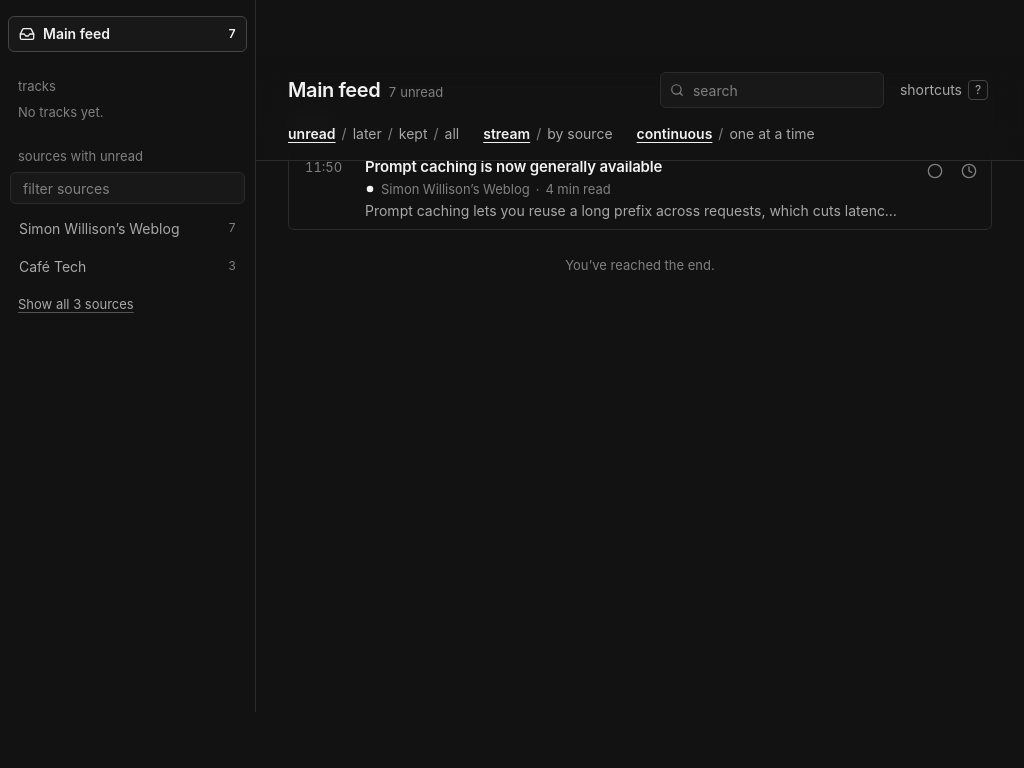
ReaderNavRail › source filter › says when no source matches
The image size is (1024, 768).
Expected: the link "Simon Willison’s Weblog 7" is shown, [8, 210, 247, 246]
Type "zzzz" into the field labelled "filter sources" at (128, 188), box [10, 172, 245, 204]
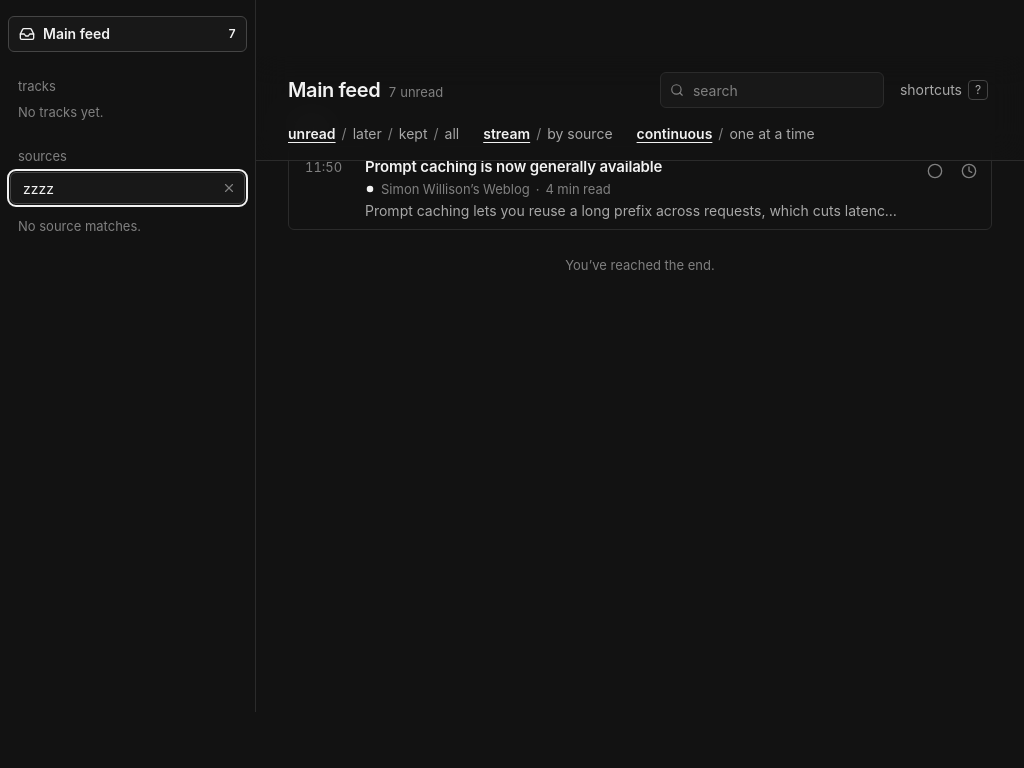
Result: the text "No source matches." is shown at [18, 218, 141, 234]
